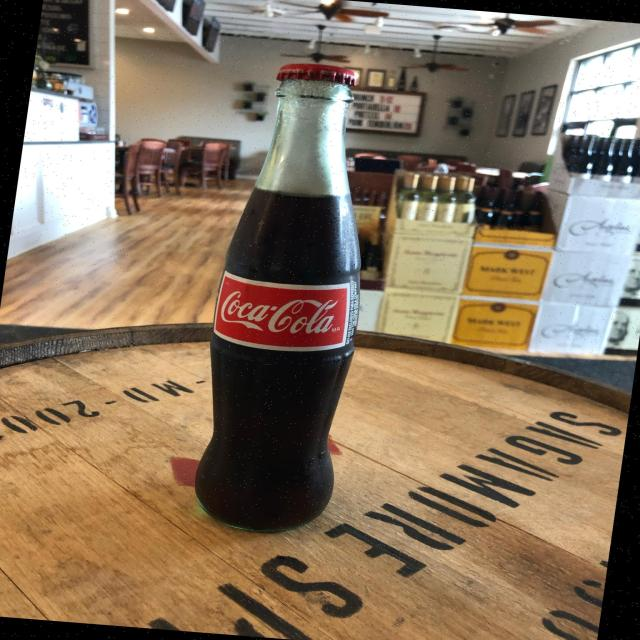coca-cola: (181, 53, 400, 539)
